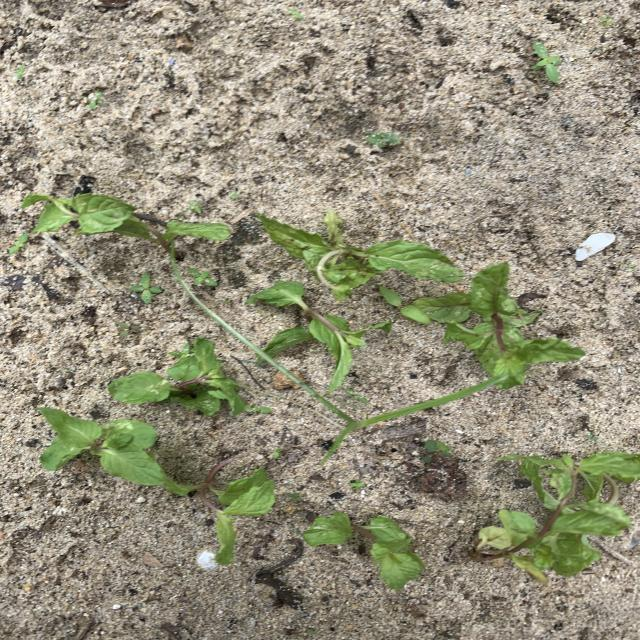crop: (476, 452, 638, 584), (413, 263, 584, 388), (260, 211, 463, 299), (246, 280, 391, 391), (21, 194, 229, 254), (39, 408, 179, 490), (111, 338, 247, 415), (165, 467, 274, 563), (303, 513, 423, 590)
weed: (171, 259, 509, 461), (379, 286, 431, 324), (531, 43, 560, 83), (131, 272, 162, 303), (422, 439, 451, 463), (188, 268, 216, 287), (367, 132, 400, 147), (119, 321, 142, 337), (87, 92, 104, 110), (288, 492, 303, 502), (349, 481, 364, 489)
